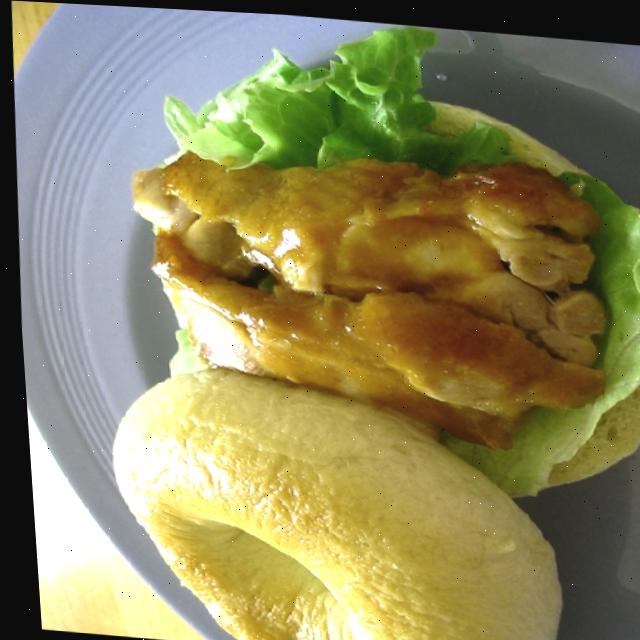面包点心: (40, 35, 640, 640)
